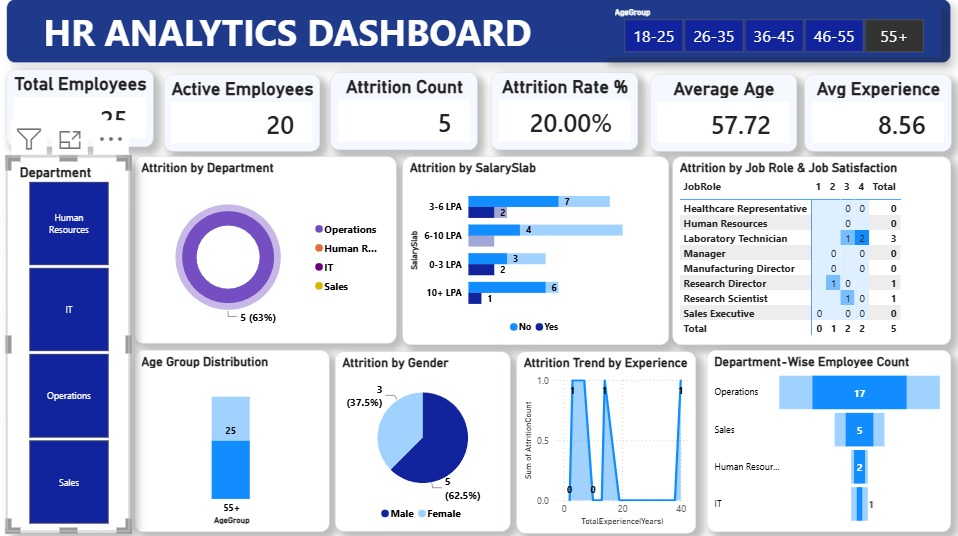

What the dashboard file says about the page in this screenshot:
{"tool":"powerbi","page":{"name":"Page 2","canvas":[1280,720],"ordinal":0},"visuals":[{"type":"textbox","box":[9.4,0,1259,85],"z":0},{"type":"cardVisual","title":"Total Employees","fields":{"Data":["CountNonNull(HR_Analytics-4.EmpID)"]},"box":[10.1,95,196,103.1],"z":1000},{"type":"cardVisual","title":"Active Employees","fields":{"Data":["CountNonNull(HR_Analytics-4.EmployeeCount)"]},"box":[220.3,99,208.2,103.1],"z":2000},{"type":"cardVisual","title":"Attrition Count","fields":{"Data":["Sum(HR_Analytics-4.AttritionCount)"]},"box":[442.6,97,196,103.1],"z":3000},{"type":"cardVisual","title":"Attrition Rate %","fields":{"Data":["HR_Analytics-4.Attrition Rate %"]},"box":[656.8,97,196,103.1],"z":4000},{"type":"cardVisual","title":"Average Age","fields":{"Data":["Avg(HR_Analytics-4.Age)"]},"box":[867,99,196,103.1],"z":5000},{"type":"cardVisual","title":"Avg Experience","fields":{"Data":["Avg(HR_Analytics-4.YearsatCompany)"]},"box":[1073.2,99,196,103.1],"z":6000},{"type":"donutChart","title":" Attrition by Department","fields":{"Category":["HR_Analytics-4.Department"],"Y":["Sum(HR_Analytics-4.AttritionCount)"]},"box":[179,210,350,249],"z":7000},{"type":"clusteredBarChart","title":"Attrition by SalarySlab","fields":{"Category":["HR_Analytics-4.SalarySlab"],"Y":["Sum(HR_Analytics-4.EmployeeCount)"],"Series":["HR_Analytics-4.Attrition"]},"box":[537,209,355,251],"z":8000},{"type":"pivotTable","title":"Attrition by Job Role & Job Satisfaction","fields":{"Rows":["HR_Analytics-4.JobRole"],"Values":["Sum(HR_Analytics-4.AttritionCount)"],"Columns":["HR_Analytics-4.JobSatisfaction"]},"box":[898,209,371,251],"z":9000},{"type":"columnChart","title":"Age Group  Distribution","fields":{"Category":["HR_Analytics-4.AgeGroup"],"Y":["Sum(HR_Analytics-4.EmployeeCount)"]},"box":[179.9,468.9,260.7,242.5],"z":9001},{"type":"pieChart","title":" Attrition by Gender","fields":{"Category":["HR_Analytics-4.Gender"],"Y":["Sum(HR_Analytics-4.AttritionCount)"]},"box":[448,470.9,234,240],"z":9002},{"type":"areaChart","title":"Attrition Trend  by Experience","fields":{"Category":["HR_Analytics-4.TotalExperience(Years)"],"Y":["Sum(HR_Analytics-4.AttritionCount)"]},"box":[689,469,239,242.5],"z":9003},{"type":"funnel","title":"Department-Wise Employee Count","fields":{"Category":["HR_Analytics-4.Department"],"Y":["Sum(HR_Analytics-4.EmployeeCount)"]},"box":[943.8,468.9,325.4,242.5],"z":9004},{"type":"slicer","fields":{"Values":["HR_Analytics-4.Department"]},"box":[9.6,209.3,164.5,501.6],"z":9005},{"type":"slicer","fields":{"Values":["HR_Analytics-4.AgeGroup"]},"box":[808.3,6.4,448.9,71.9],"z":9006}]}

Visuals, with their boxes in screenshot pixels (x1, y1, x2, y2), scaled from the page's 1280x720 canvas onto the 958x536 screenshot:
textbox: bbox=(7, 0, 949, 63)
"Total Employees" cardVisual: bbox=(8, 71, 154, 147)
"Active Employees" cardVisual: bbox=(165, 74, 321, 150)
"Attrition Count" cardVisual: bbox=(331, 72, 478, 149)
"Attrition Rate %" cardVisual: bbox=(492, 72, 638, 149)
"Average Age" cardVisual: bbox=(649, 74, 796, 150)
"Avg Experience" cardVisual: bbox=(803, 74, 950, 150)
" Attrition by Department" donutChart: bbox=(134, 156, 396, 342)
"Attrition by SalarySlab" clusteredBarChart: bbox=(402, 156, 668, 342)
"Attrition by Job Role & Job Satisfaction" pivotTable: bbox=(672, 156, 950, 342)
"Age Group  Distribution" columnChart: bbox=(135, 349, 330, 530)
" Attrition by Gender" pieChart: bbox=(335, 351, 510, 529)
"Attrition Trend  by Experience" areaChart: bbox=(516, 349, 695, 530)
"Department-Wise Employee Count" funnel: bbox=(706, 349, 950, 530)
slicer - HR_Analytics-4.Department: bbox=(7, 156, 130, 529)
slicer - HR_Analytics-4.AgeGroup: bbox=(605, 5, 941, 58)
